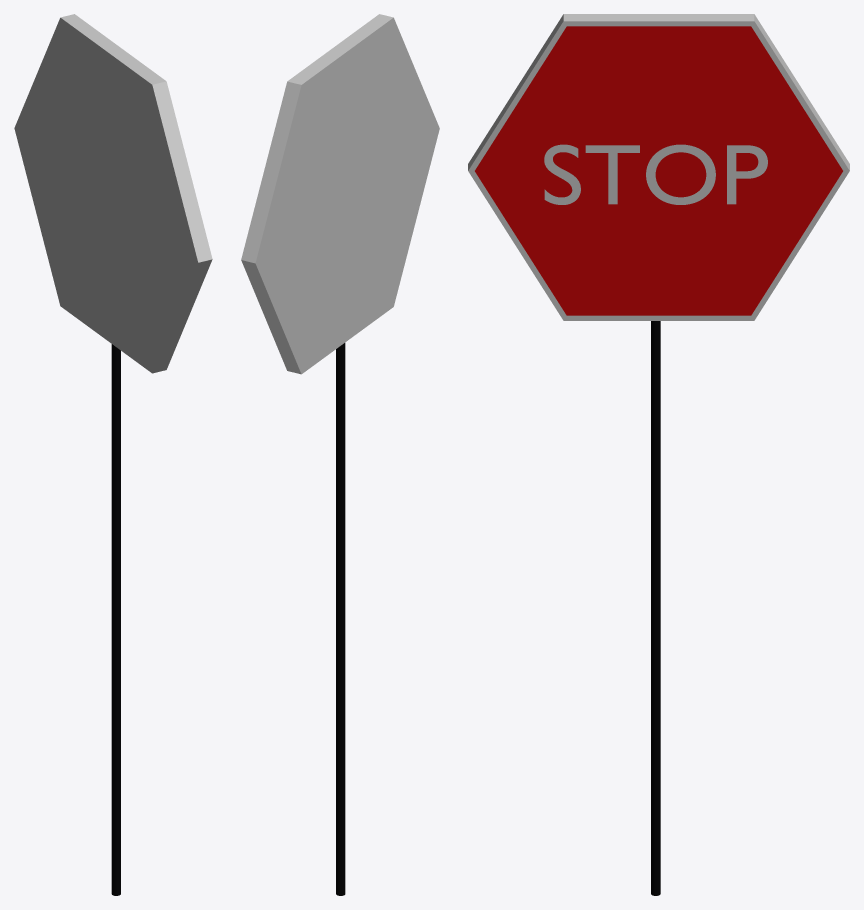
Rendered from stop_sign.obj.
The picture shows the model from 3 angles, left to right: view 1: azimuth 30°, elevation 25°; view 2: azimuth 150°, elevation 25°; view 3: azimuth 270°, elevation 25°; orthographic projection. The views are drawn at different scales.
Parts seen in each view (by area): view 1: Text_CUText; view 2: Text_CUText; view 3: Text_CUText.
Boxes of the visible parts, x1,y1,x2,y2 form: Text_CUText: (14, 14, 212, 895); Text_CUText: (241, 14, 439, 895); Text_CUText: (468, 14, 849, 895).
Size of the model in its own units: 0.19 by 10.12 by 4.
